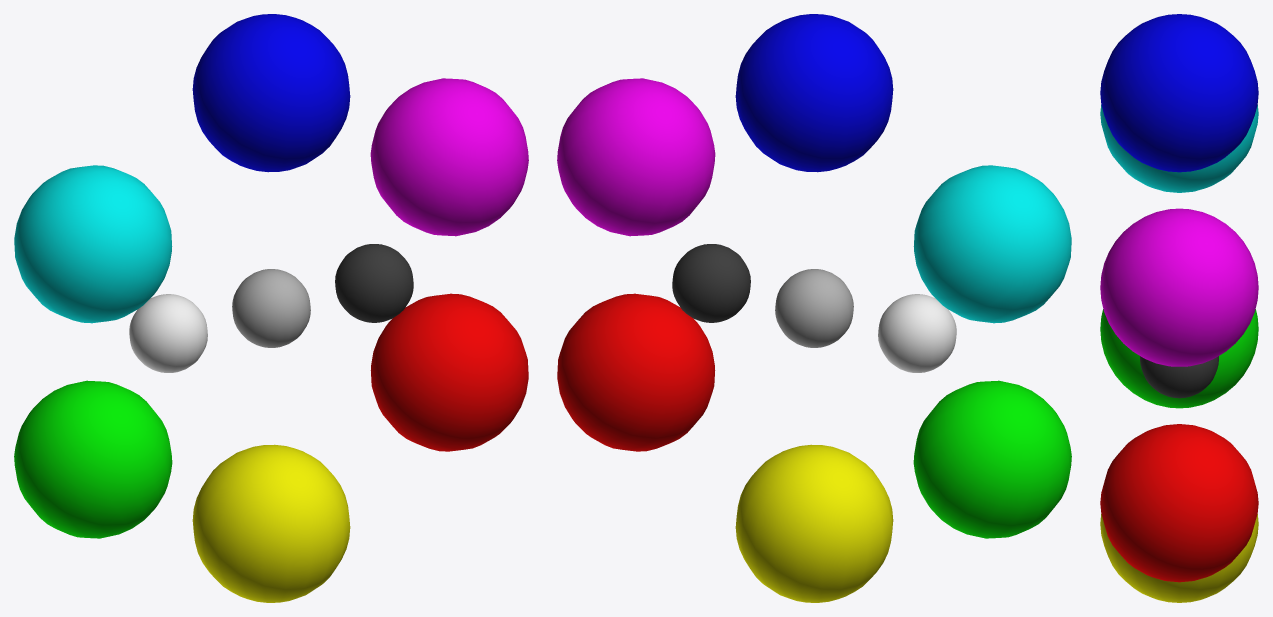
The model's file is ShaderTesters4.fbx.
3 renders of one model, left to right at view 1: azimuth 30°, elevation 25°; view 2: azimuth 150°, elevation 25°; view 3: azimuth 270°, elevation 25°, orthographic.
Parts seen in each view (by area): view 1: polySurface5; view 2: polySurface5; view 3: polySurface5.
Boxes of the visible parts, bbox=[...] form: polySurface5: bbox=[14, 14, 528, 602]; polySurface5: bbox=[557, 14, 1071, 602]; polySurface5: bbox=[1100, 14, 1258, 602].
Bounding box in the file's own units: 7.19 × 8 × 2.
